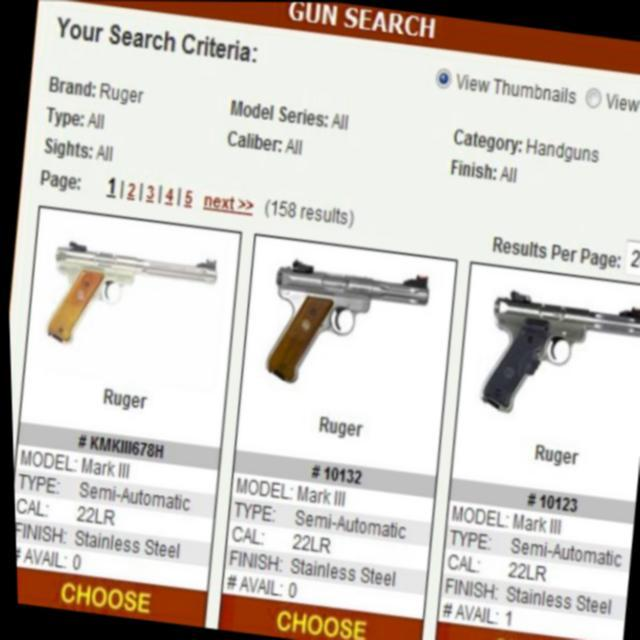weapon: (258, 254, 432, 398), (473, 284, 640, 427), (40, 234, 219, 360)
